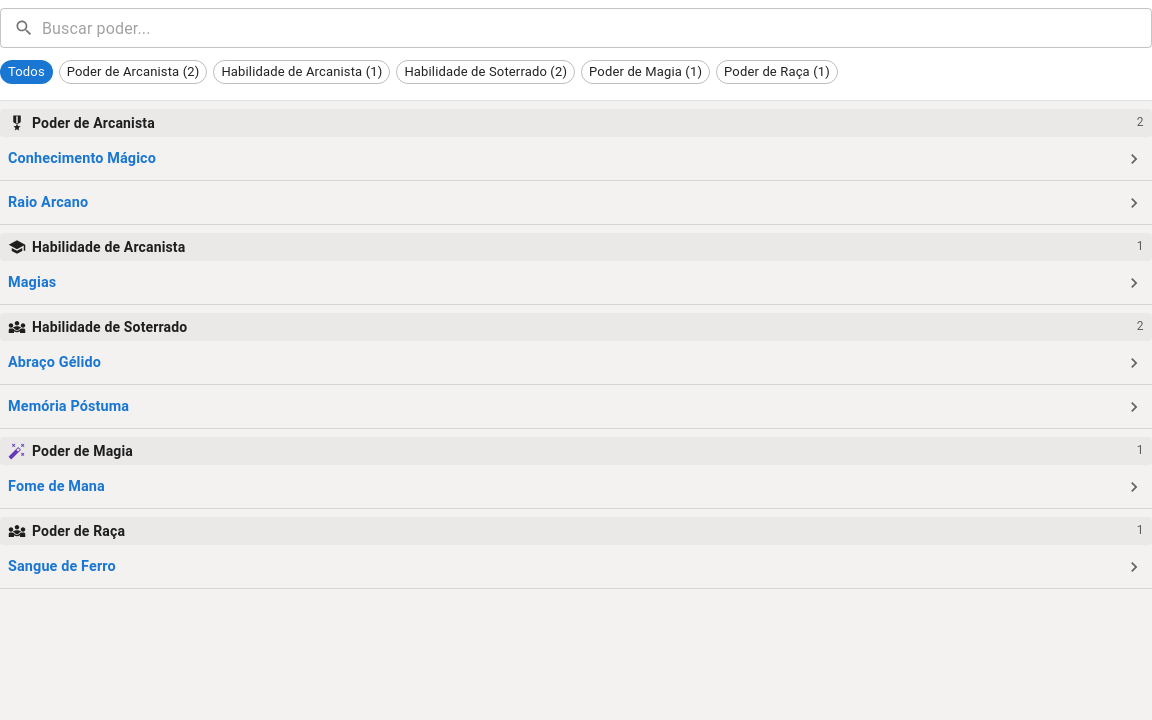
Test: PowersDisplay no mobile › abre o detalhe em bottom sheet em vez de expandir a linha
This screenshot has width=1152, height=720.
Expected: the text "Seu toque congela os inimigos." is not shown
Click the button "Abraço Gélido". click: click(55, 362)
box: [0,341,1151,385]
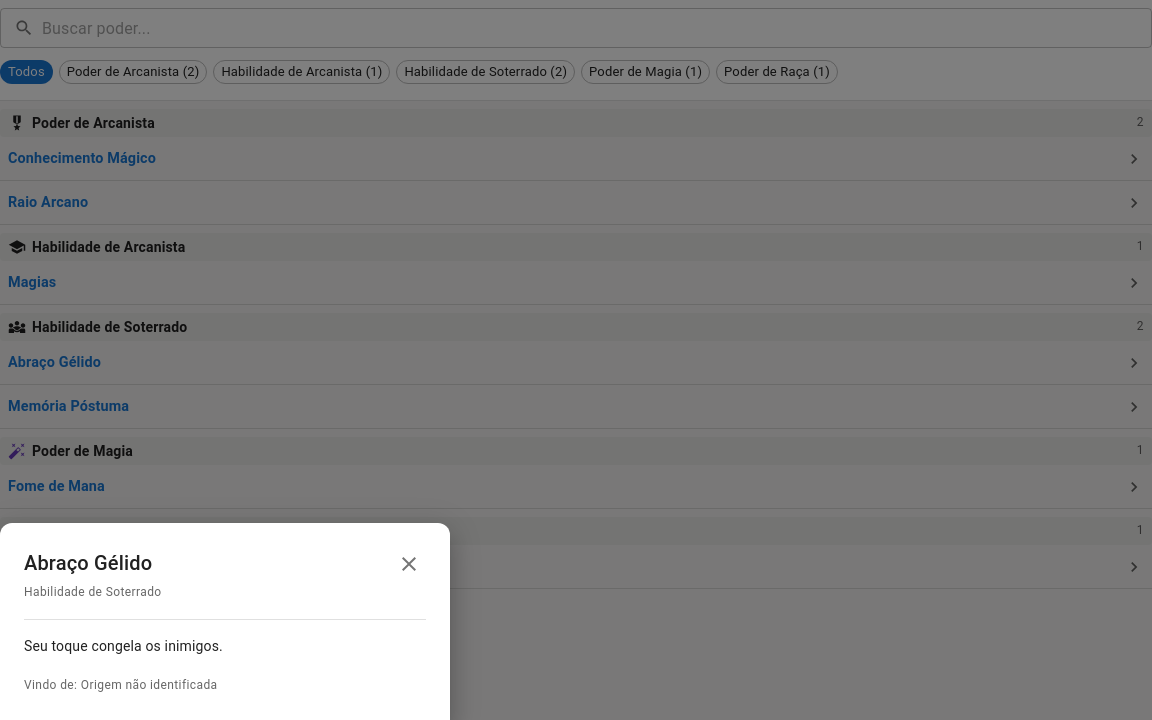
Now the text "Seu toque congela os inimigos." is shown, box [24,638,223,654]
Now the text "Habilidade de Soterrado" is shown, box [24,585,162,599]
Now the button named "fechar" is shown, box [392,547,426,581]
